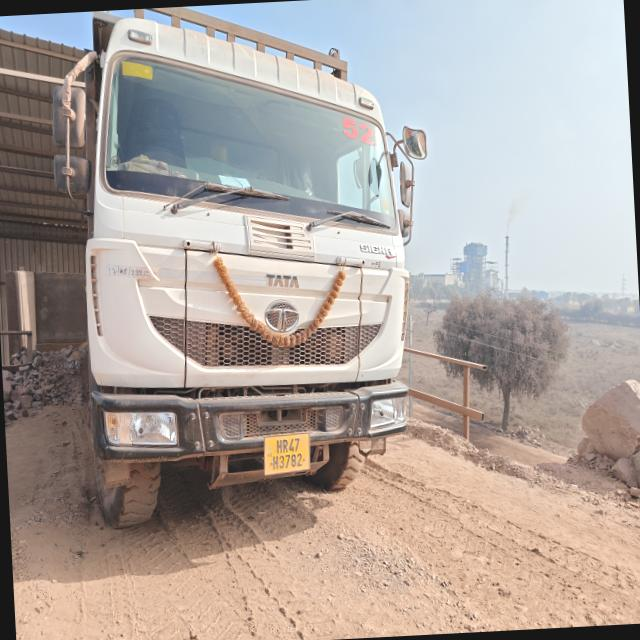license_plate: (264, 433, 310, 475)
